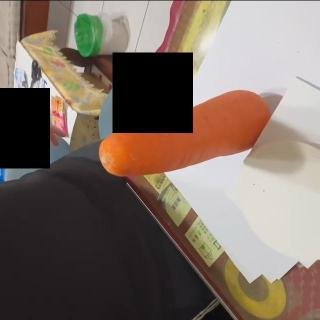carrot: (97, 89, 274, 177)
